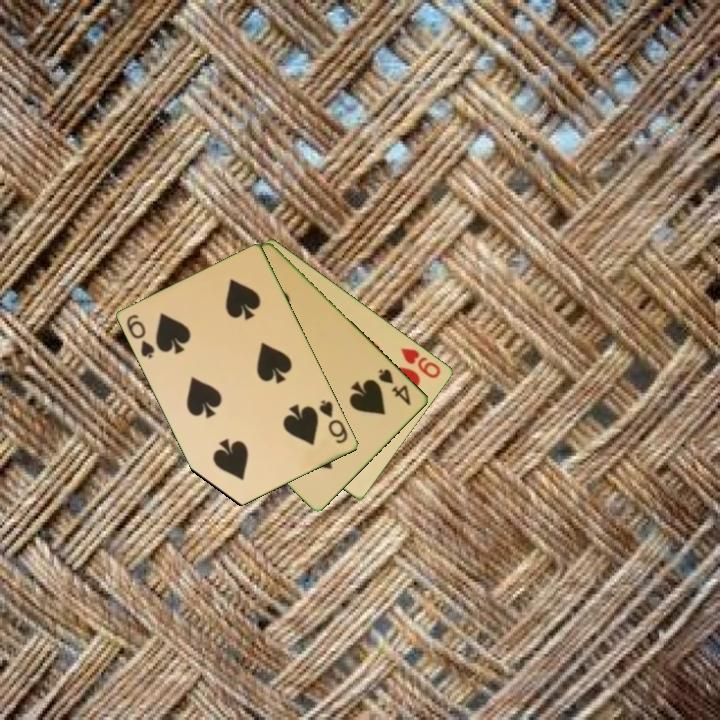4s: (375, 365, 415, 409)
6s: (316, 396, 351, 447), (123, 311, 158, 362)
9h: (397, 344, 444, 381)
